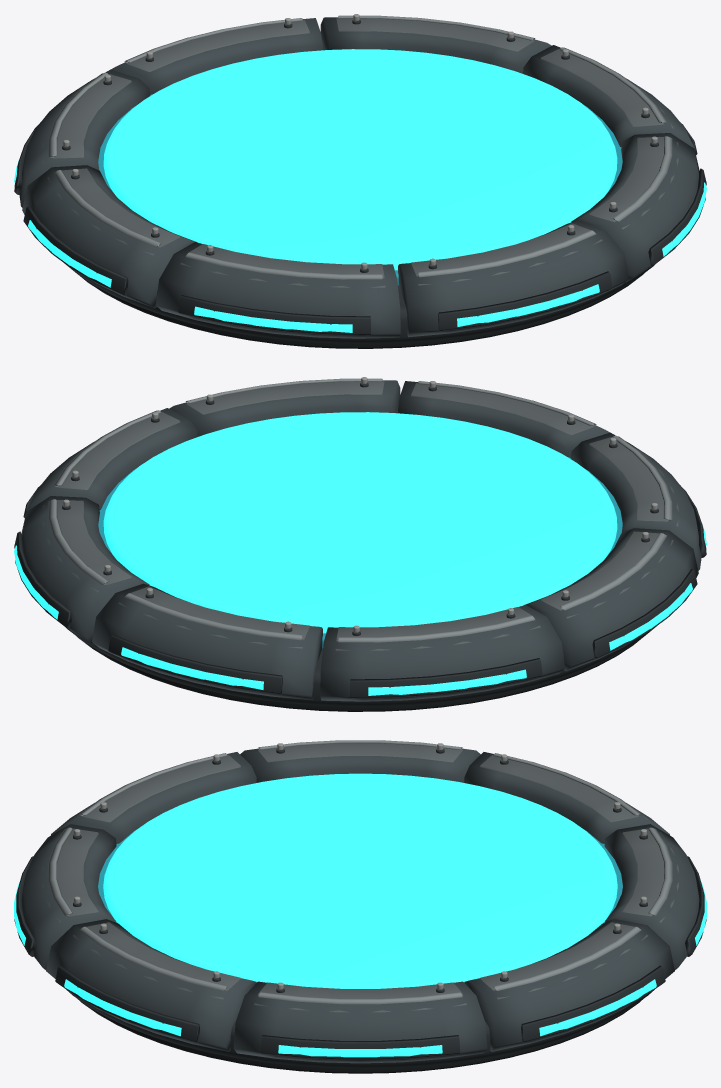
File: wsc-plan-007-mover-jump-pad-casing.glb
3 renders of one model, top to bottom at view 1: azimuth 30°, elevation 25°; view 2: azimuth 150°, elevation 25°; view 3: azimuth 270°, elevation 25°, orthographic.
Parts seen in each view (by area): view 1: wsc-plan-007-mover-jump-pad-casing; view 2: wsc-plan-007-mover-jump-pad-casing; view 3: wsc-plan-007-mover-jump-pad-casing.
Boxes of the visible parts, left/top/right/bottom form: wsc-plan-007-mover-jump-pad-casing: left=14, top=14, right=706, bottom=348; wsc-plan-007-mover-jump-pad-casing: left=14, top=377, right=706, bottom=711; wsc-plan-007-mover-jump-pad-casing: left=14, top=740, right=706, bottom=1073.
Bounding box in the file's own units: 2.52 × 0.311 × 2.52.
